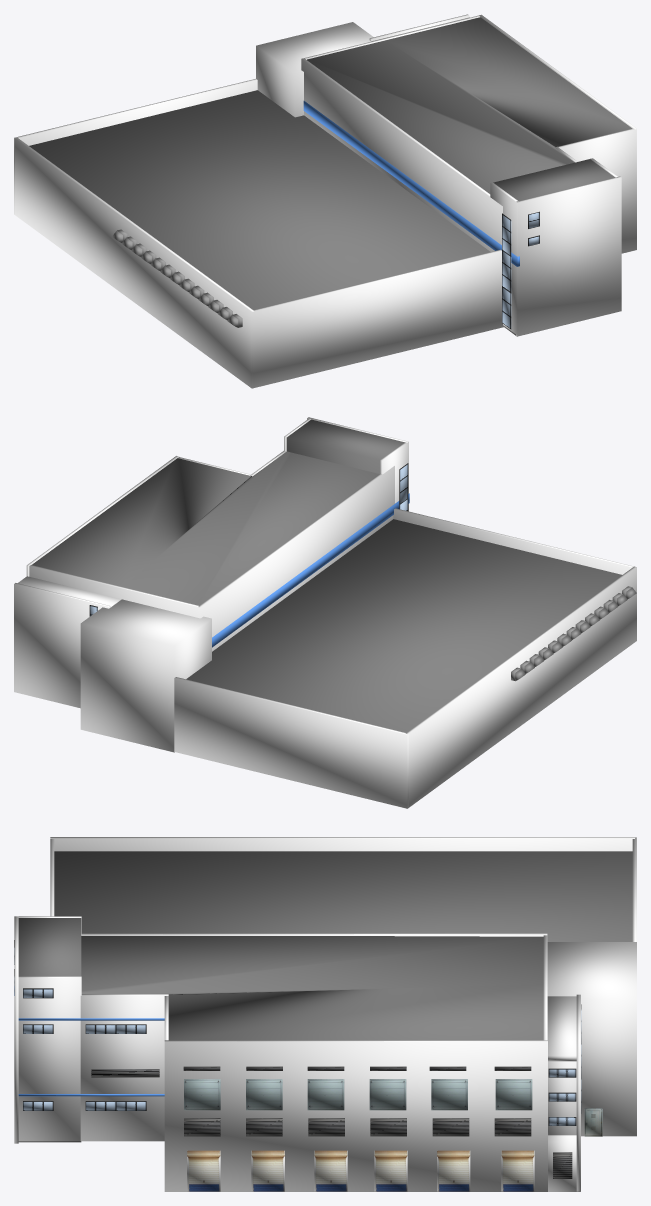
The model's file is wfa_4f_mini.gltf.
The picture shows the model from 3 angles, top to bottom: view 1: azimuth 30°, elevation 25°; view 2: azimuth 150°, elevation 25°; view 3: azimuth 270°, elevation 25°; orthographic projection. The views are drawn at different scales.
Visible parts, largest first — view 1: wfa_waiguan_1, wfa_waiguan_82, wfa_waiguan_2, wfa_waiguan_83, wfa_waiguan_77, wfa_waiguan_84, wfa_waiguan_74, wfa_waiguan_6, wfa_waiguan_3, wfa_waiguan_81, wfa_waiguan_91, wfa_waiguan_86 (+1 smaller); view 2: wfa_waiguan_1, wfa_waiguan_82, wfa_waiguan_3, wfa_waiguan_83, wfa_waiguan_74, wfa_waiguan_84, wfa_waiguan_75, wfa_waiguan_81, wfa_waiguan_2, wfa_waiguan_4, wfa_waiguan_91, wfa_waiguan_89 (+2 smaller); view 3: wfa_waiguan_1, wfa_waiguan_82, wfa_waiguan_85, wfa_waiguan_74, wfa_waiguan_88, wfa_waiguan_87, wfa_waiguan_83, wfa_waiguan_81, wfa_waiguan_89, wfa_waiguan_84, wfa_waiguan_76, wfa_waiguan_35 (+25 smaller).
Part boxes in pixels (x1,y1,x2,y2): wfa_waiguan_1: (29, 90, 490, 309); wfa_waiguan_82: (307, 17, 631, 193); wfa_waiguan_2: (252, 249, 503, 388); wfa_waiguan_83: (14, 137, 254, 388); wfa_waiguan_77: (516, 176, 621, 336); wfa_waiguan_84: (301, 58, 502, 251); wfa_waiguan_74: (256, 22, 373, 117); wfa_waiguan_6: (558, 128, 636, 253); wfa_waiguan_3: (14, 79, 257, 214); wfa_waiguan_81: (493, 159, 614, 336); wfa_waiguan_91: (303, 101, 519, 266); wfa_waiguan_86: (490, 182, 518, 335); wfa_waiguan_1: (186, 519, 621, 732); wfa_waiguan_82: (32, 451, 378, 605); wfa_waiguan_3: (174, 677, 408, 808); wfa_waiguan_83: (406, 566, 636, 807); wfa_waiguan_74: (80, 599, 211, 752); wfa_waiguan_84: (198, 466, 394, 651); wfa_waiguan_75: (14, 583, 110, 707); wfa_waiguan_81: (286, 419, 404, 473); wfa_waiguan_2: (393, 508, 633, 574); wfa_waiguan_4: (29, 565, 200, 618); wfa_waiguan_91: (212, 493, 409, 647); wfa_waiguan_89: (18, 576, 121, 608); wfa_waiguan_1: (54, 851, 632, 941); wfa_waiguan_82: (81, 936, 543, 1040); wfa_waiguan_85: (164, 1040, 547, 1191); wfa_waiguan_74: (547, 942, 636, 1136); wfa_waiguan_88: (80, 994, 168, 1141); wfa_waiguan_87: (18, 976, 81, 1141); wfa_waiguan_83: (50, 837, 634, 851); wfa_waiguan_81: (18, 918, 81, 1142); wfa_waiguan_89: (547, 996, 576, 1061); wfa_waiguan_84: (81, 933, 547, 936); wfa_waiguan_76: (548, 1061, 576, 1135); wfa_waiguan_35: (187, 1150, 220, 1191).
Size of the model in its own units: 151 by 44.52 by 150.
Materials: 10 (5 with a texture image).
